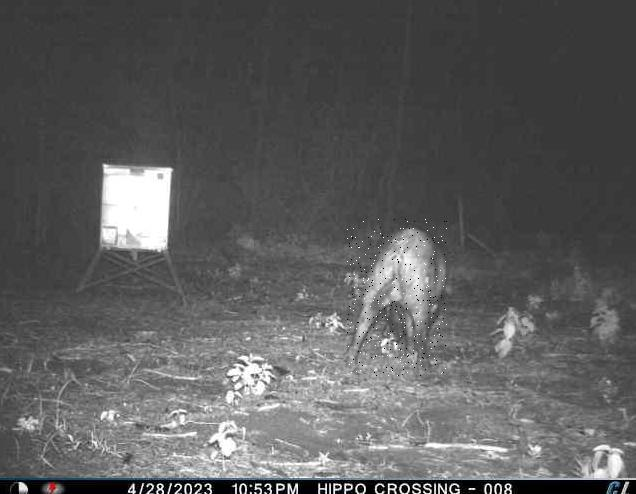Hog: (347, 220, 447, 377)
